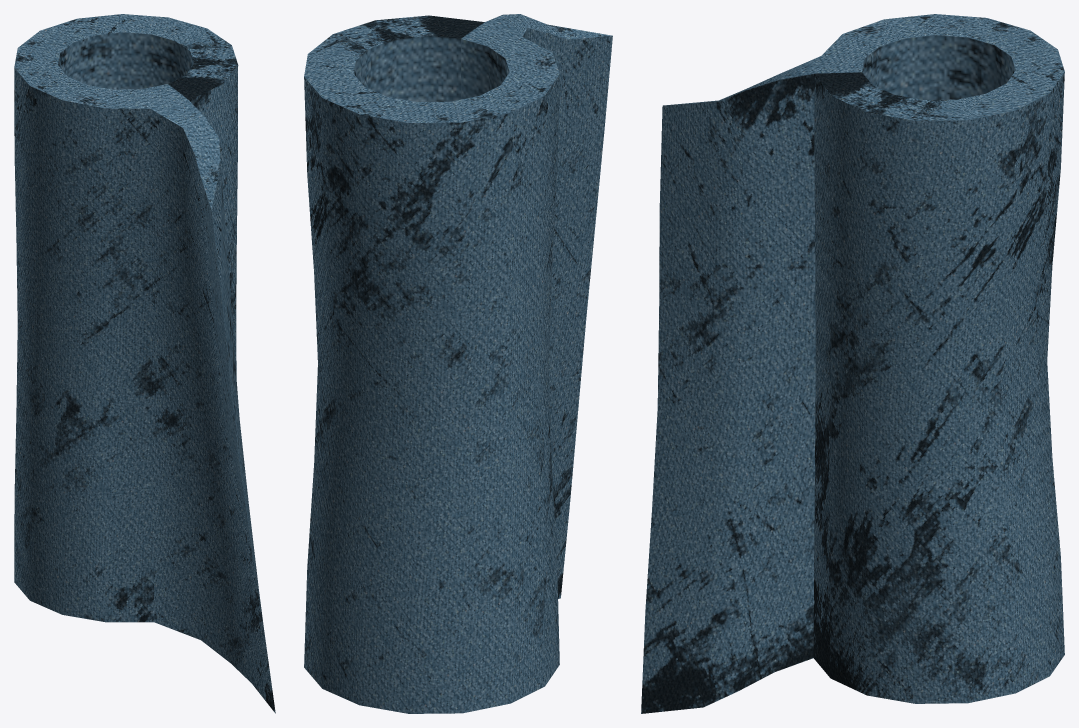
Rendered from RolloDeTelaParado.fbx.
The picture shows the model from 3 angles, left to right: view 1: azimuth 30°, elevation 25°; view 2: azimuth 150°, elevation 25°; view 3: azimuth 270°, elevation 25°; orthographic projection. The views are drawn at different scales.
Visible parts, largest first — view 1: RolloTela; view 2: RolloTela; view 3: RolloTela.
Part boxes in pixels (x1,y1,x2,y2): RolloTela: [14, 14, 275, 713]; RolloTela: [304, 14, 612, 713]; RolloTela: [641, 14, 1064, 713].
Bounding box in the file's own units: 63.49 × 176 × 106.
Materials: 1 (1 with a texture image).
